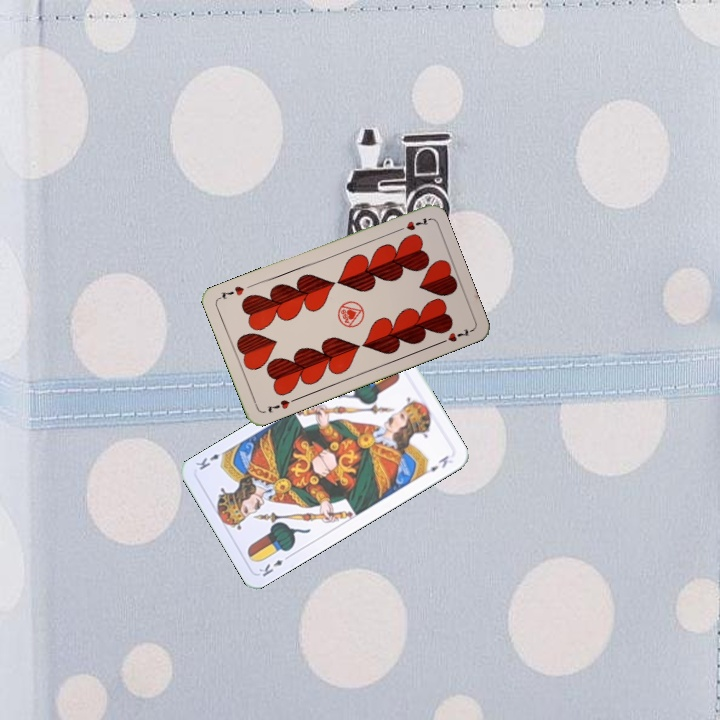EK: (255, 551, 293, 579)
H7: (392, 214, 431, 235), (264, 394, 299, 415)
